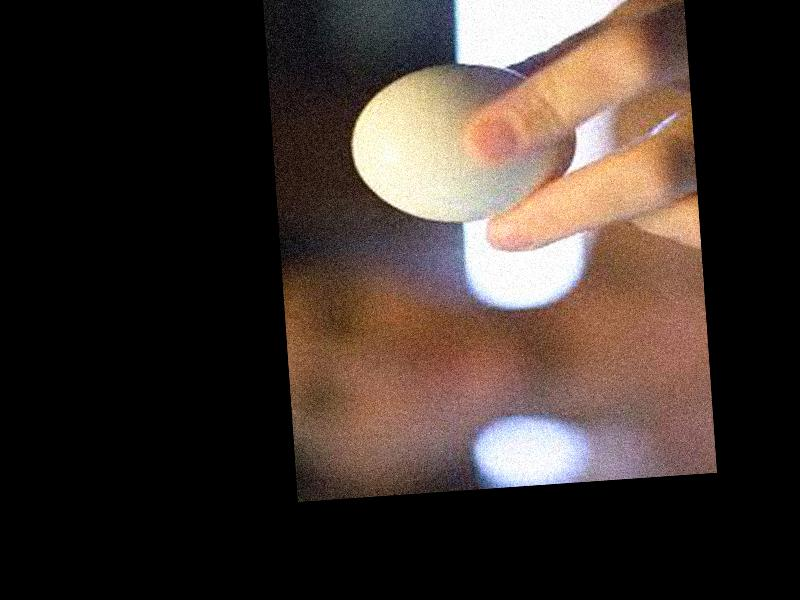Eggs: (346, 58, 582, 232)
